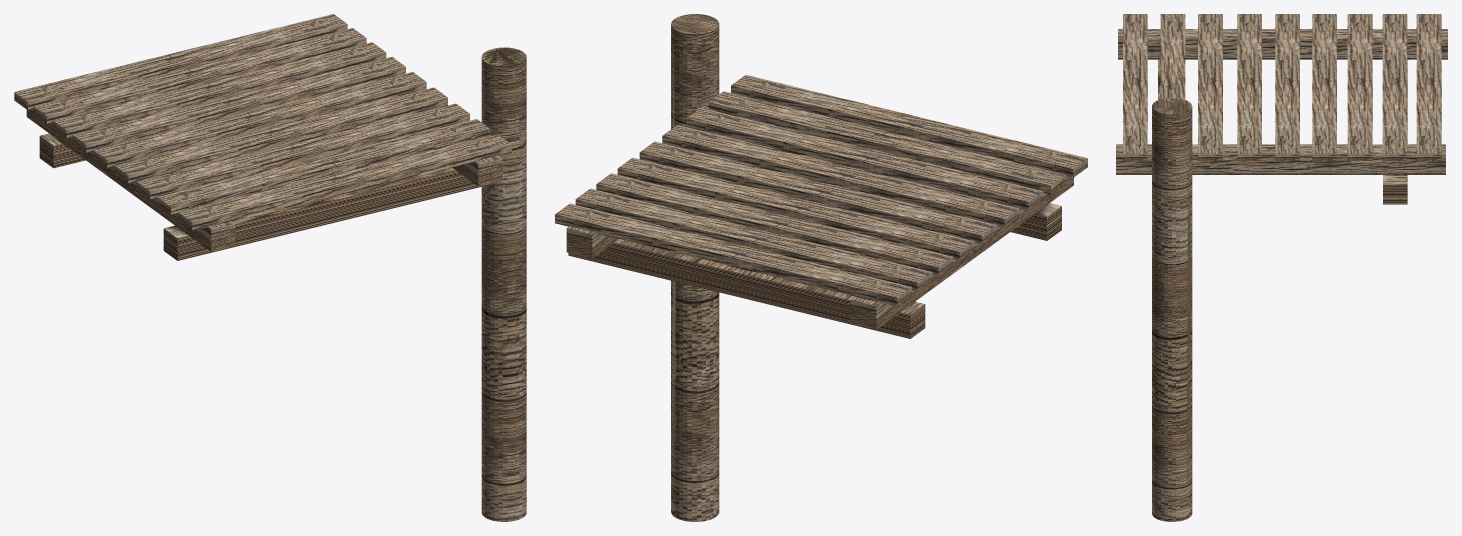
The model's file is maderaplataformap1.fbx.
The picture shows the model from 3 angles, left to right: view 1: azimuth 30°, elevation 25°; view 2: azimuth 150°, elevation 25°; view 3: azimuth 270°, elevation 25°; orthographic projection. The views are drawn at different scales.
Visible parts, largest first — view 1: plataforma4x4; view 2: plataforma4x4; view 3: plataforma4x4.
Part boxes in pixels (box(x1,y1,x2,y2)): plataforma4x4: box(14, 14, 526, 521); plataforma4x4: box(555, 14, 1087, 521); plataforma4x4: box(1116, 14, 1447, 521).
Size of the model in its own units: 450 by 545 by 402.
Materials: 2 (2 with a texture image).
